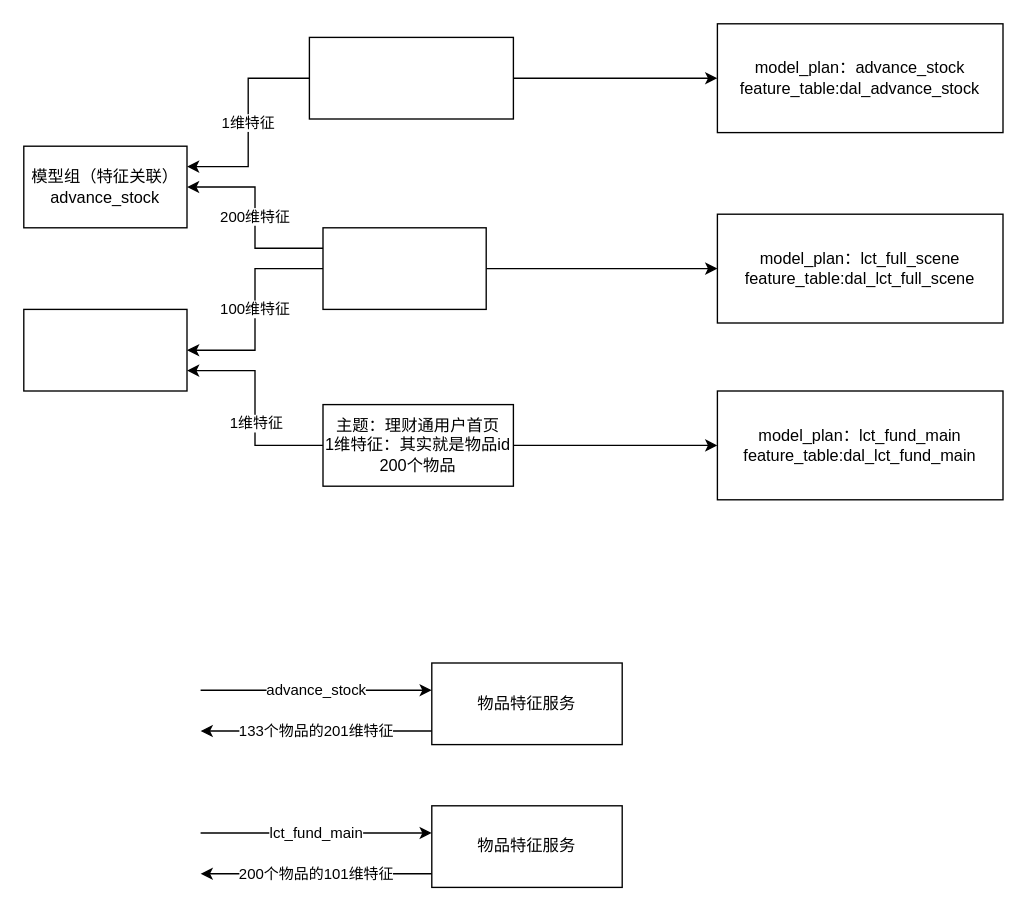
Image size: 1027x911. Some labels were removed from this diagram. The centre of each missing label's shape, as x and y in pixels:
"主题：理财通全场景物品特征 假如1000维特征 1084个物品" belongs at [404,267].
"主题：理财通进阶页 1维特征：其实就是物品id 133个物品" belongs at [410,77].
"模型组（特征关联） lct_fund_main" belongs at [104,349].
